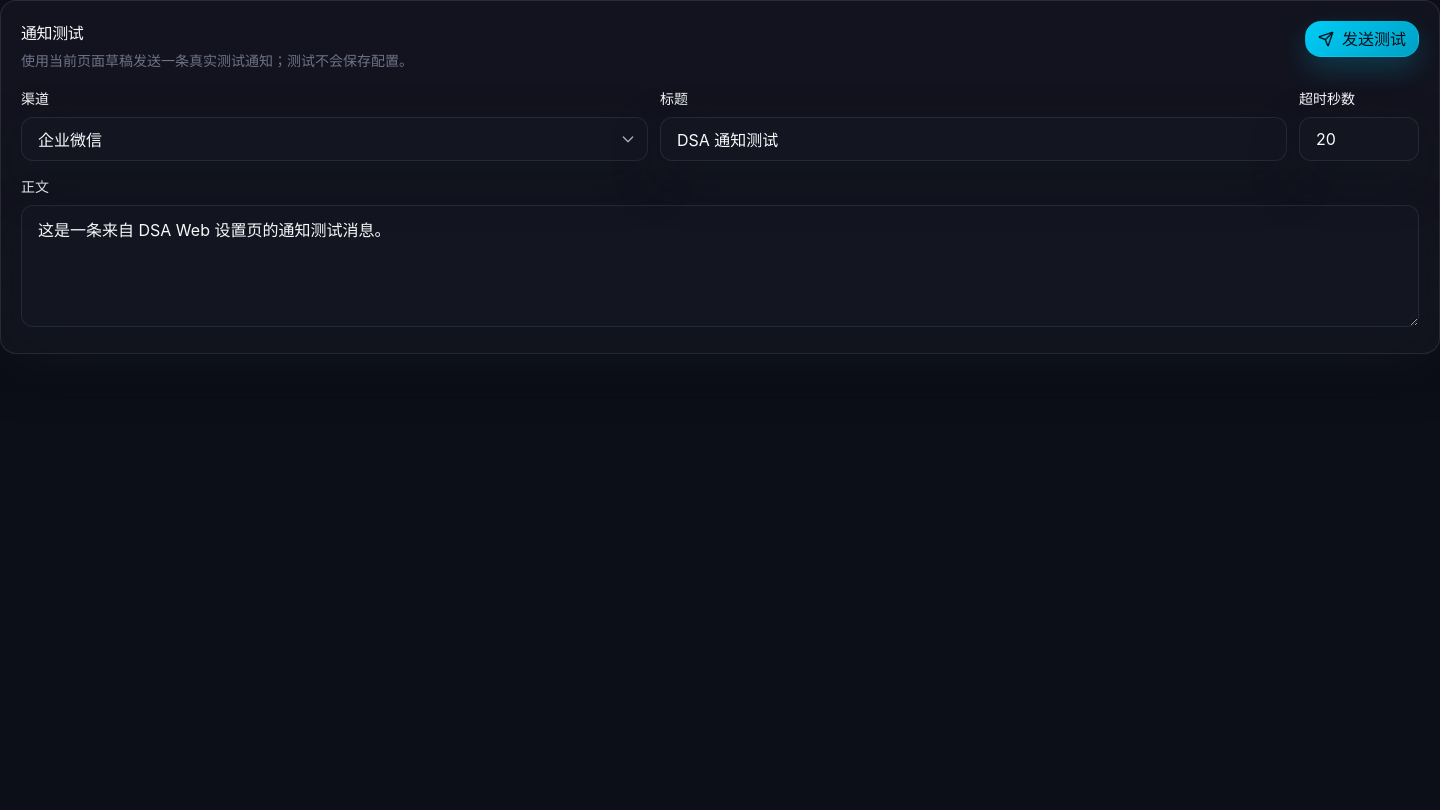
Test: NotificationTestPanel › renders retryable timeout diagnostics
Click the button "发送测试" at (1362, 39), box [1305,21,1419,57]
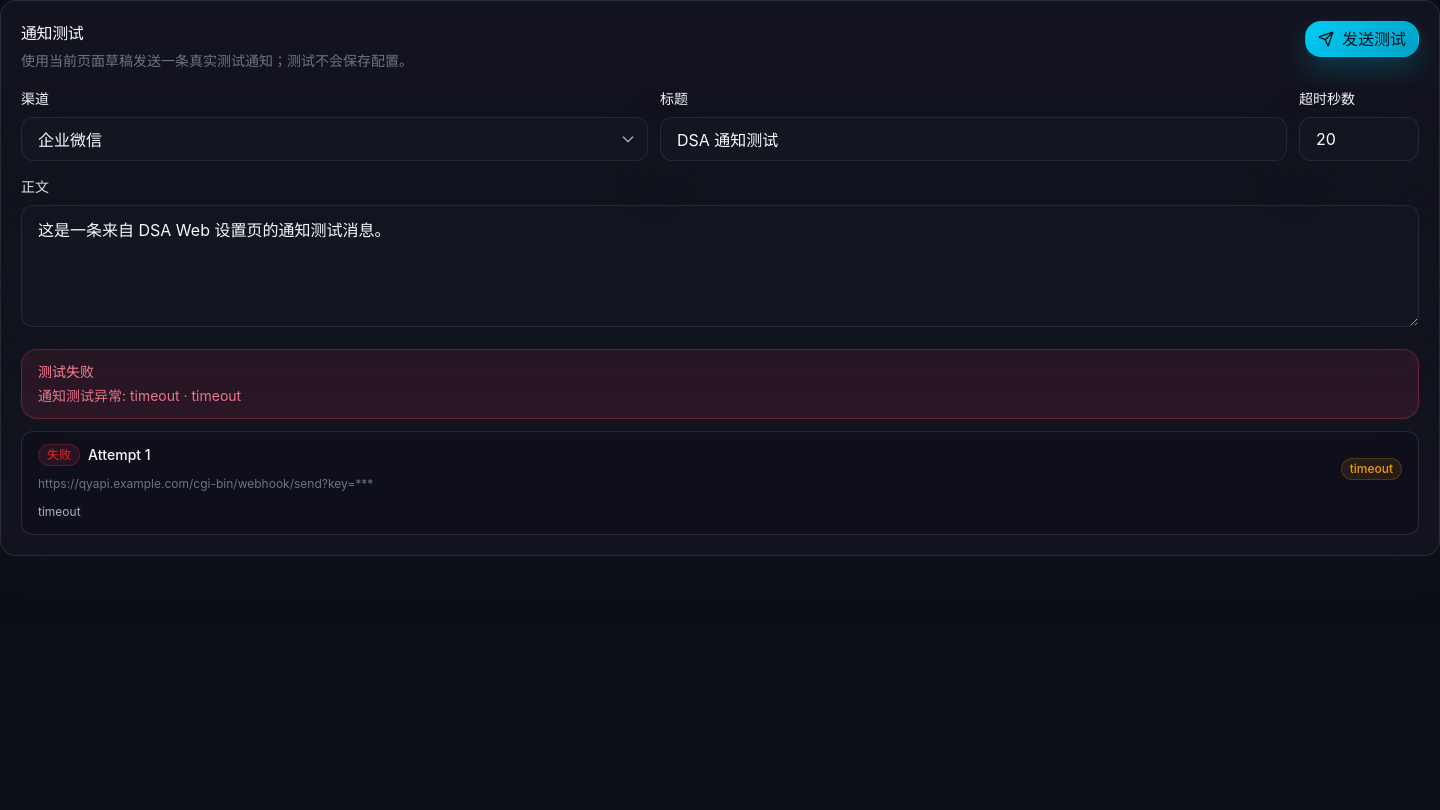
Expected: the text "测试失败" is shown, [38,363,94,380]
Expected: the text "timeout" in the row of "Attempt" is shown, [1350,461,1393,476]
Expected: the text "https://qyapi.example.com/cgi-bin/webhook/send?key=***" is shown, [38,474,373,494]
